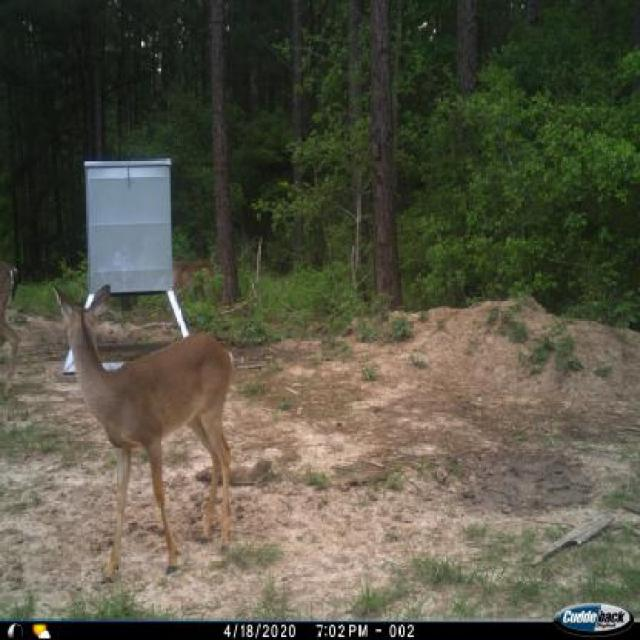Deer: (46, 278, 240, 584), (0, 251, 25, 398), (170, 252, 216, 311)
